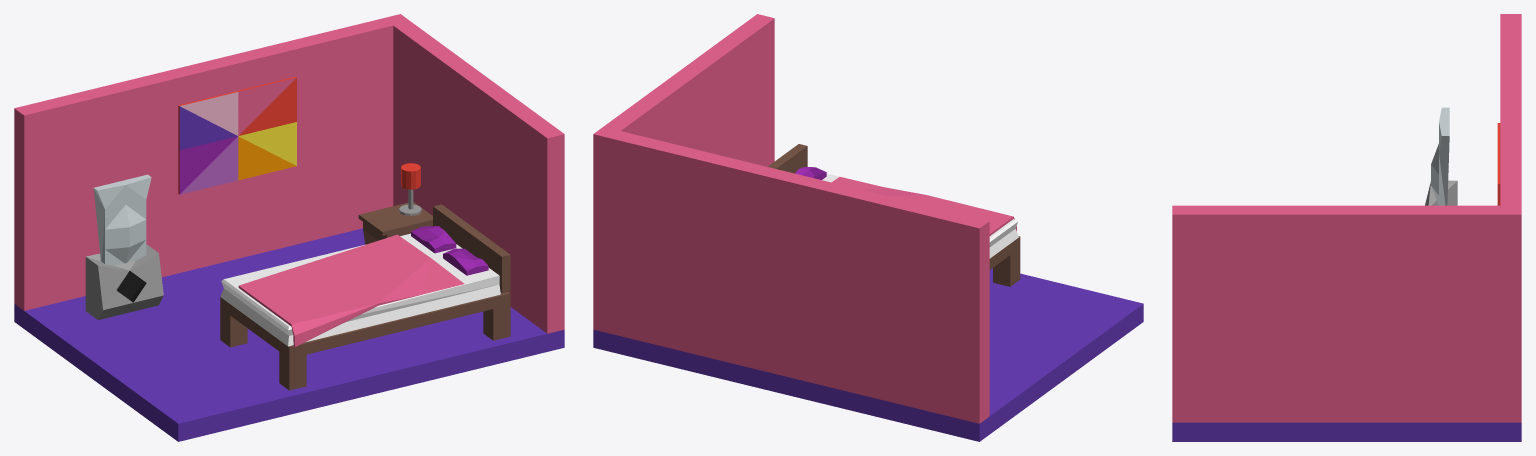
The model's file is scene_utjsvqYs1l.glb.
3 views of the same model, side by side, from view 1: azimuth 30°, elevation 25°; view 2: azimuth 150°, elevation 25°; view 3: azimuth 270°, elevation 25° (orthographic). The views are drawn at different scales.
Visible parts, largest first — view 1: Node; view 2: Node; view 3: Node.
Boxes of the visible parts, x1,y1,x2,y2 form: Node: [14, 14, 564, 441]; Node: [593, 14, 1143, 441]; Node: [1172, 14, 1521, 441].
Bounding box in the file's own units: 1.78 × 0.94 × 1.31.
